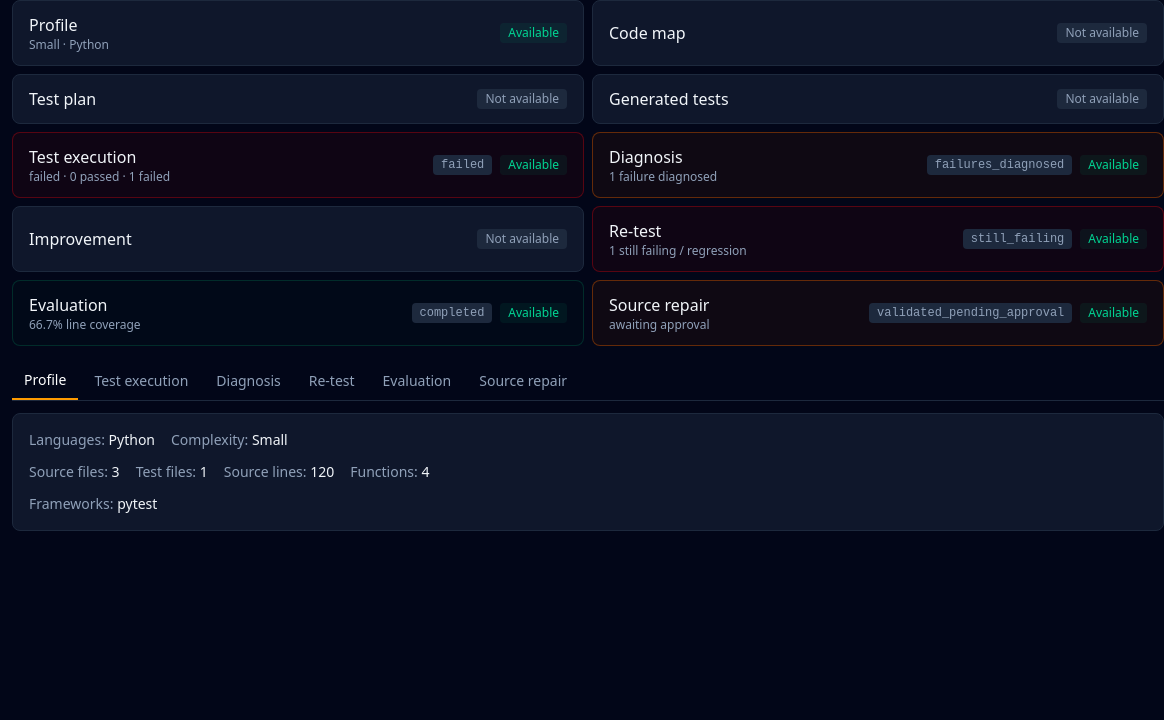
Test: ArtifactsTabs › renders diagnosis details when available
Click the tab "Diagnosis". click: (249, 381)
box: [204,362,293,400]
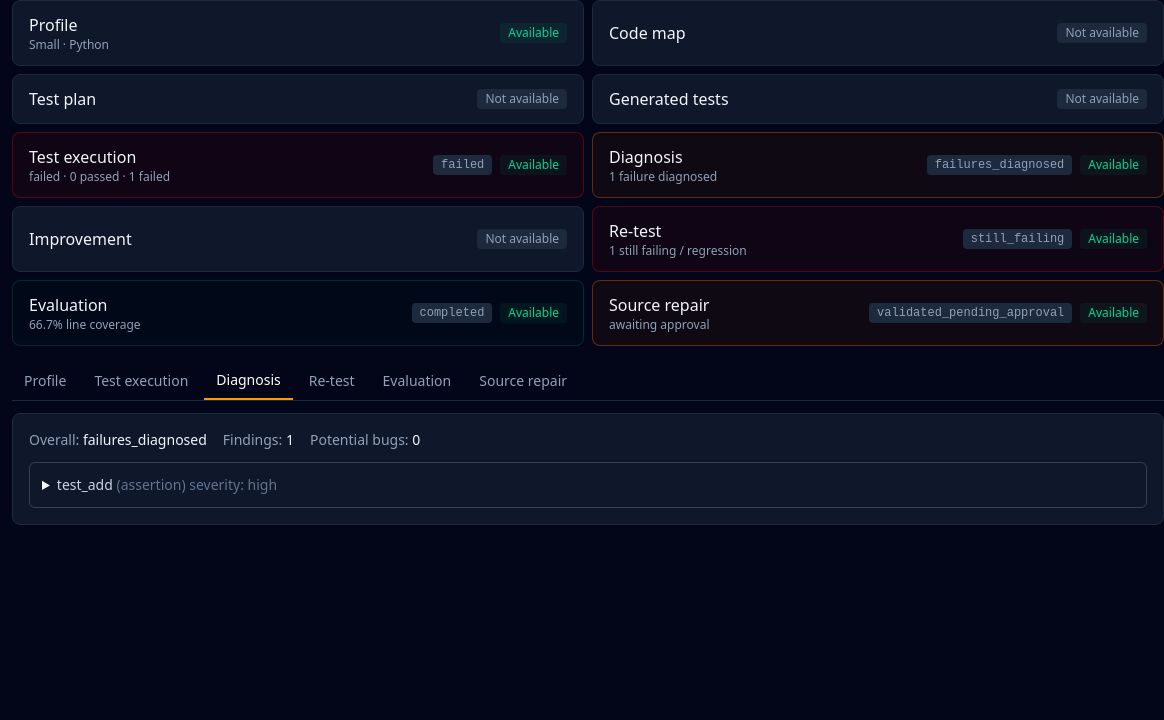
Now the text "Findings:" is shown, box [223,430,282,449]
Now the text "test_add" is shown, box [57,475,113,494]
